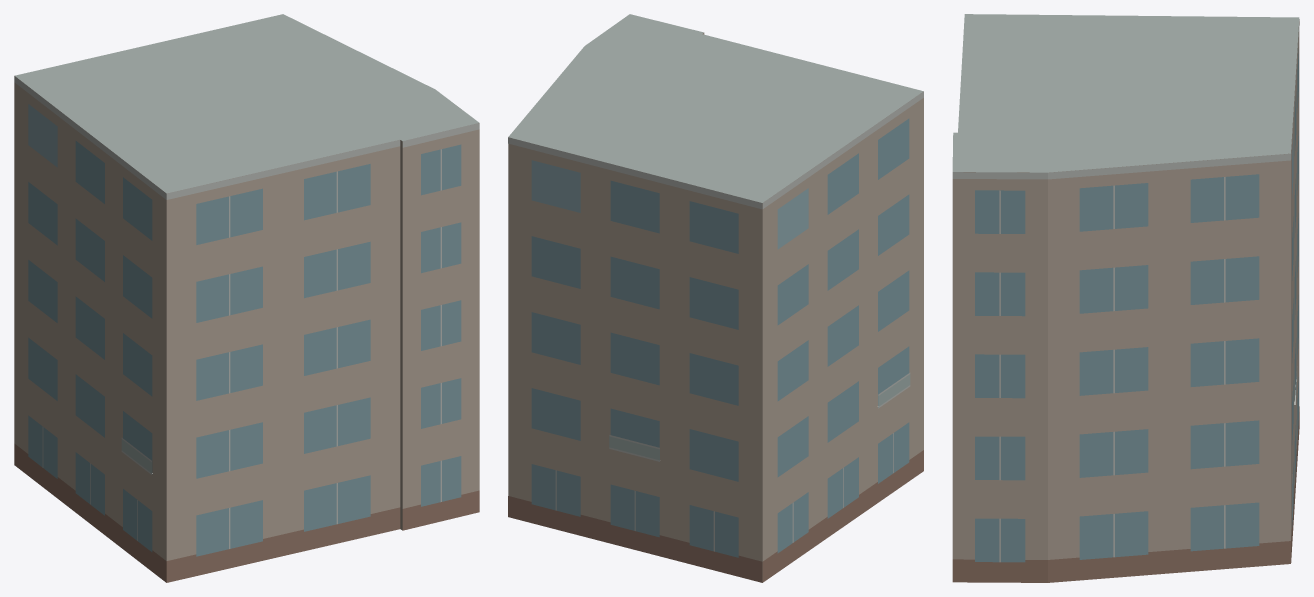
The model's file is survey-upis-32993577.glb.
3 renders of one model, left to right at view 1: azimuth 30°, elevation 25°; view 2: azimuth 150°, elevation 25°; view 3: azimuth 270°, elevation 25°, orthographic. The views are drawn at different scales.
Parts seen in each view (by area): view 1: survey-upis-32993577.tmp; view 2: survey-upis-32993577.tmp; view 3: survey-upis-32993577.tmp.
Boxes of the visible parts, x1=… form: survey-upis-32993577.tmp: x1=14, y1=14, x2=479, y2=582; survey-upis-32993577.tmp: x1=508, y1=14, x2=923, y2=582; survey-upis-32993577.tmp: x1=952, y1=14, x2=1299, y2=582.
Size of the model in its own units: 12.04 by 14.5 by 11.12.
